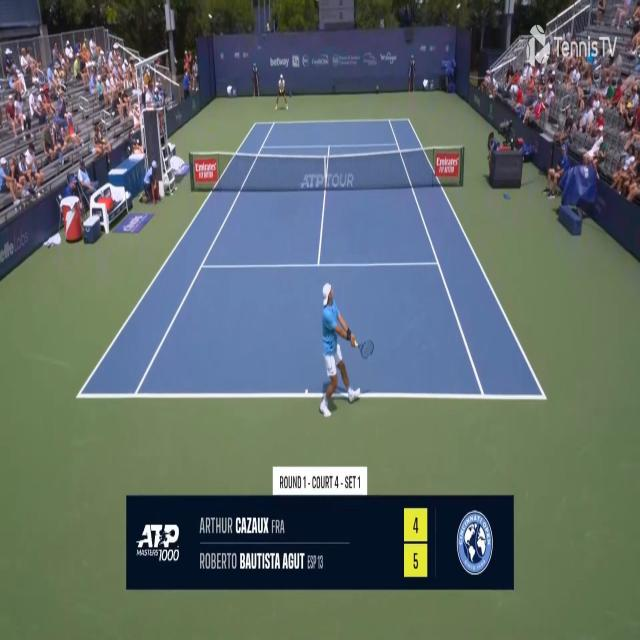tennis-player: (316, 280, 374, 422), (274, 74, 290, 111)
